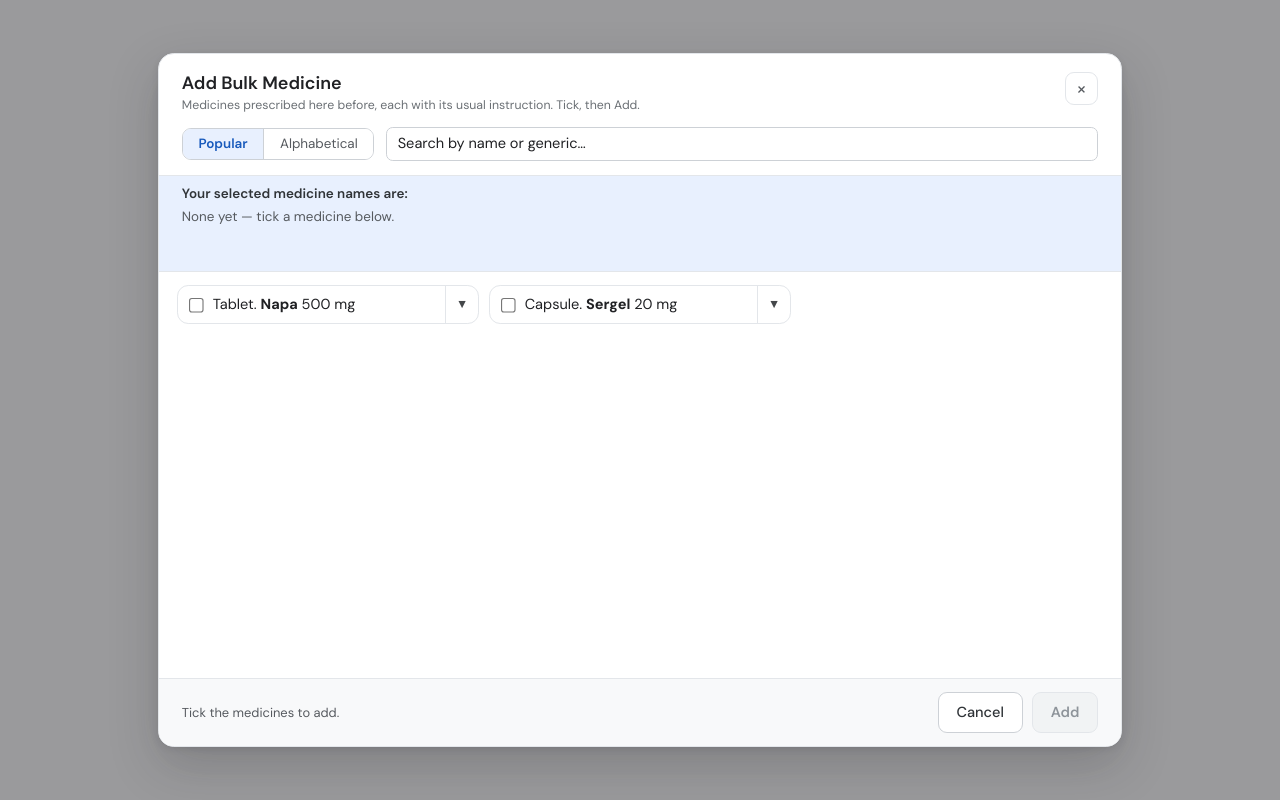
Test: BulkMedicineModal › Add cannot be pressed with nothing ticked, and says how many are
Expected: the button "Add" is disabled, [1032,692,1098,733]
Expected: the button "Add" is shown, [1032,692,1098,733]
Click the checkbox labelled "Tablet. Napa 500 mg".
click(197, 306)  # box [190,299,204,313]
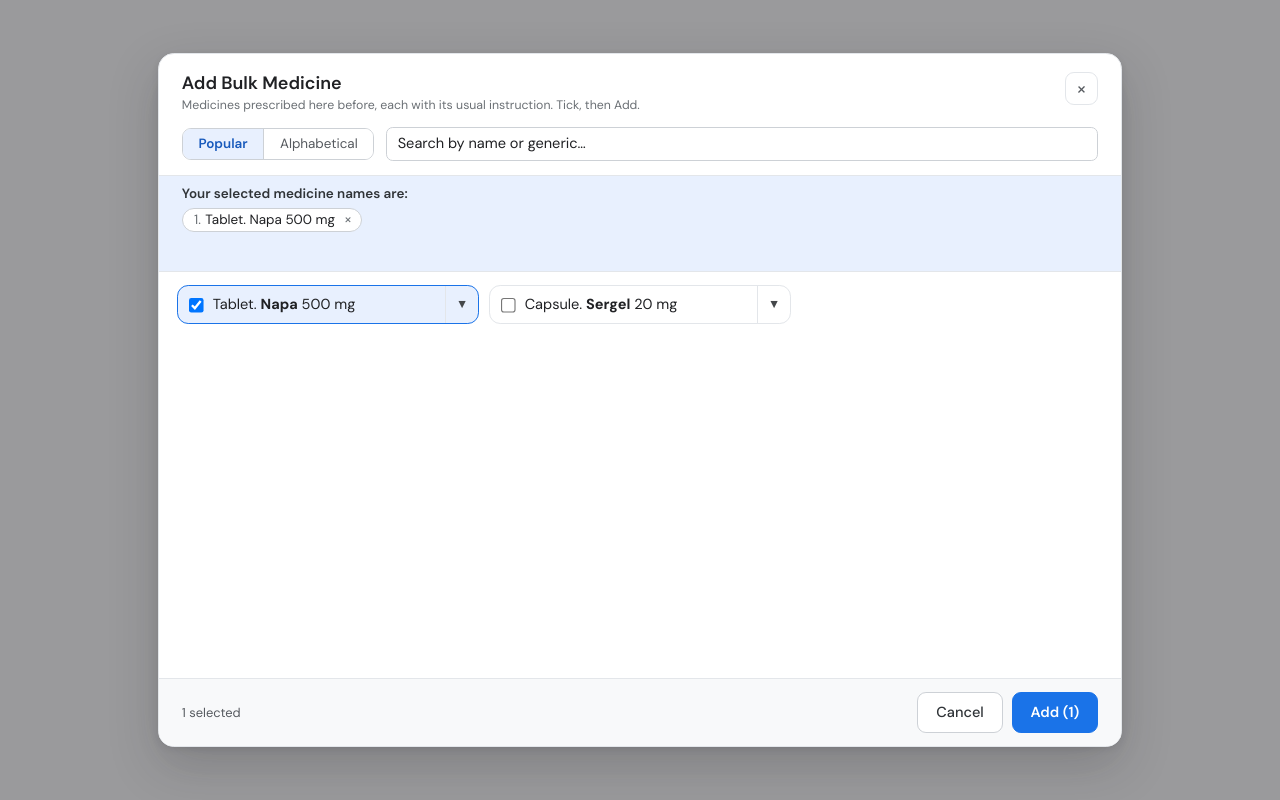
Now the button "Add (1)" is enabled, box [1012,692,1098,733]
Now the button "Add (1)" is shown, box [1012,692,1098,733]
Now the dialog "Add Bulk Medicine" shows "1 selected", box [182,704,241,721]
Click the checkbox labelled "Capsule. Sergel 20 mg".
click(508, 306)  # box [501,299,515,313]
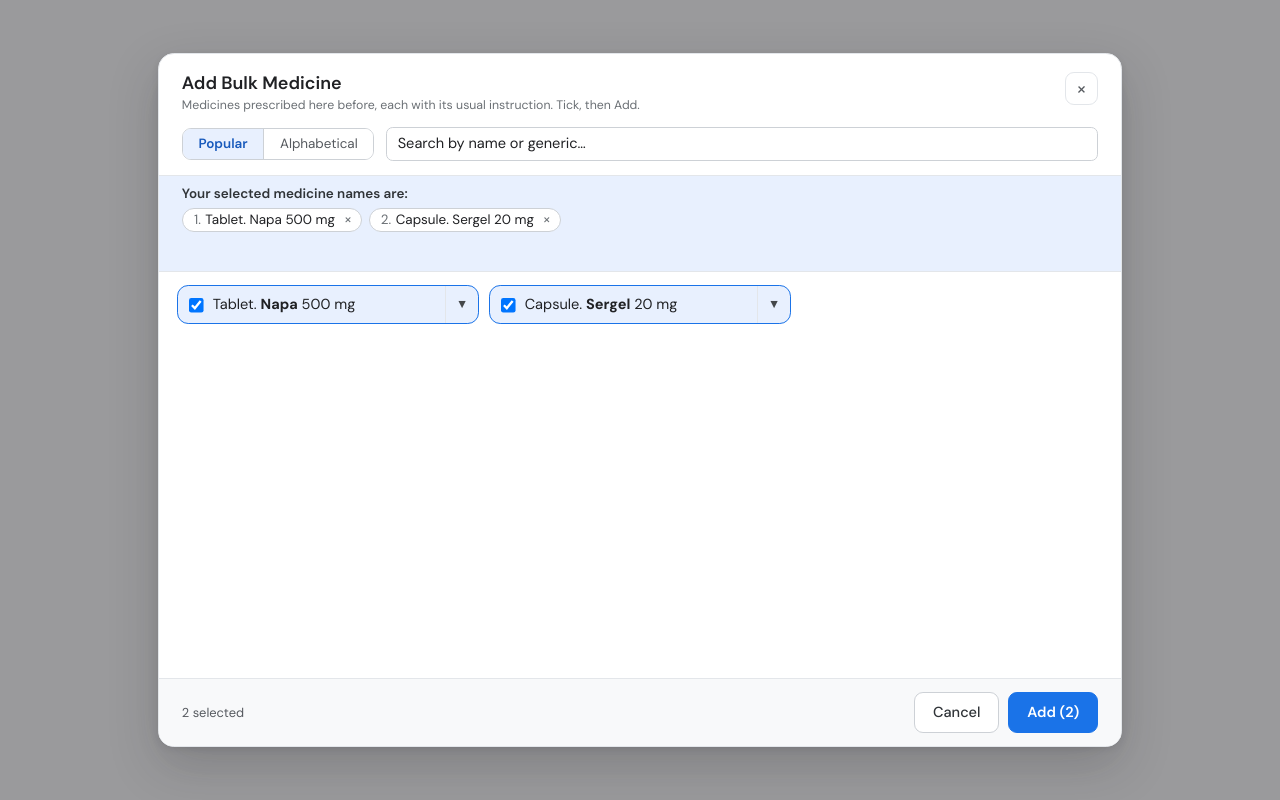
Now the button "Add (2)" is shown, box [1008,692,1098,733]
Click the checkbox labelled "Tablet. Napa 500 mg".
click(197, 306)  # box [190,299,204,313]
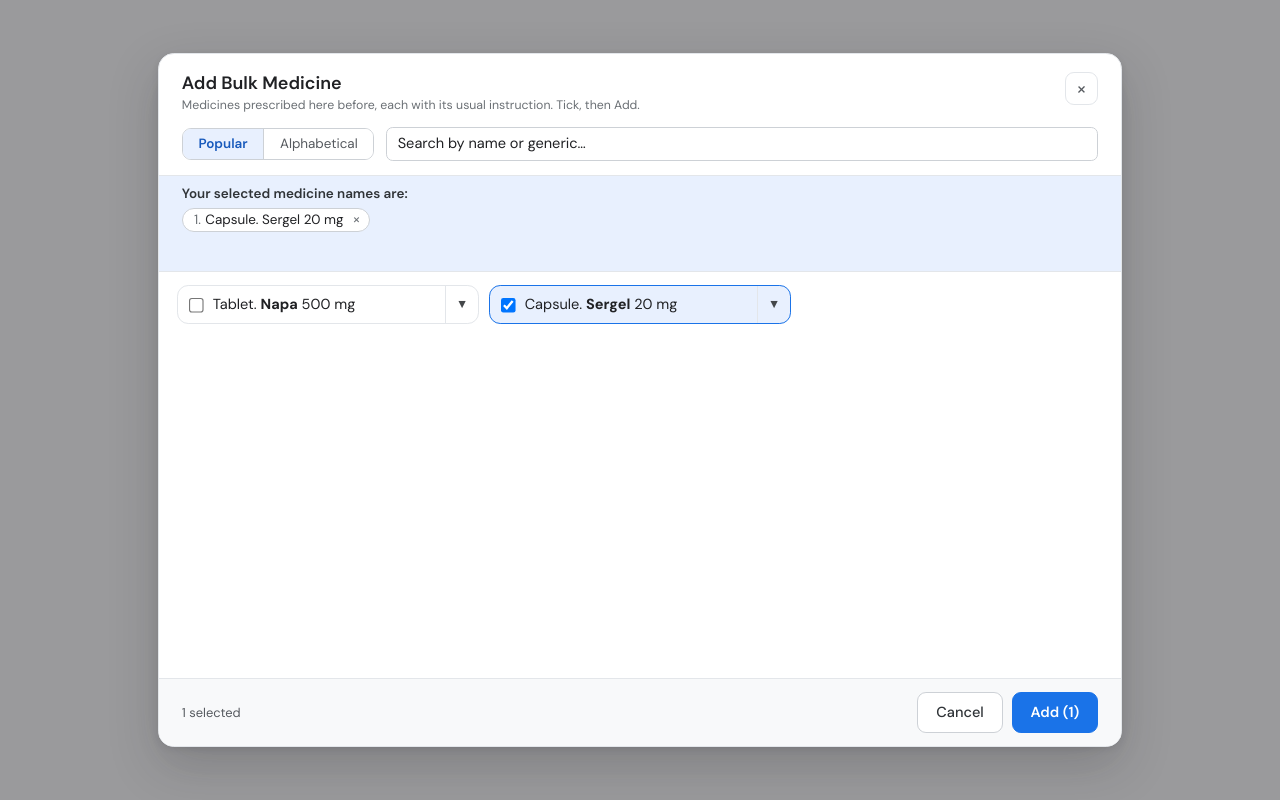
Click the checkbox labelled "Capsule. Sergel 20 mg".
click(508, 306)  # box [501,299,515,313]
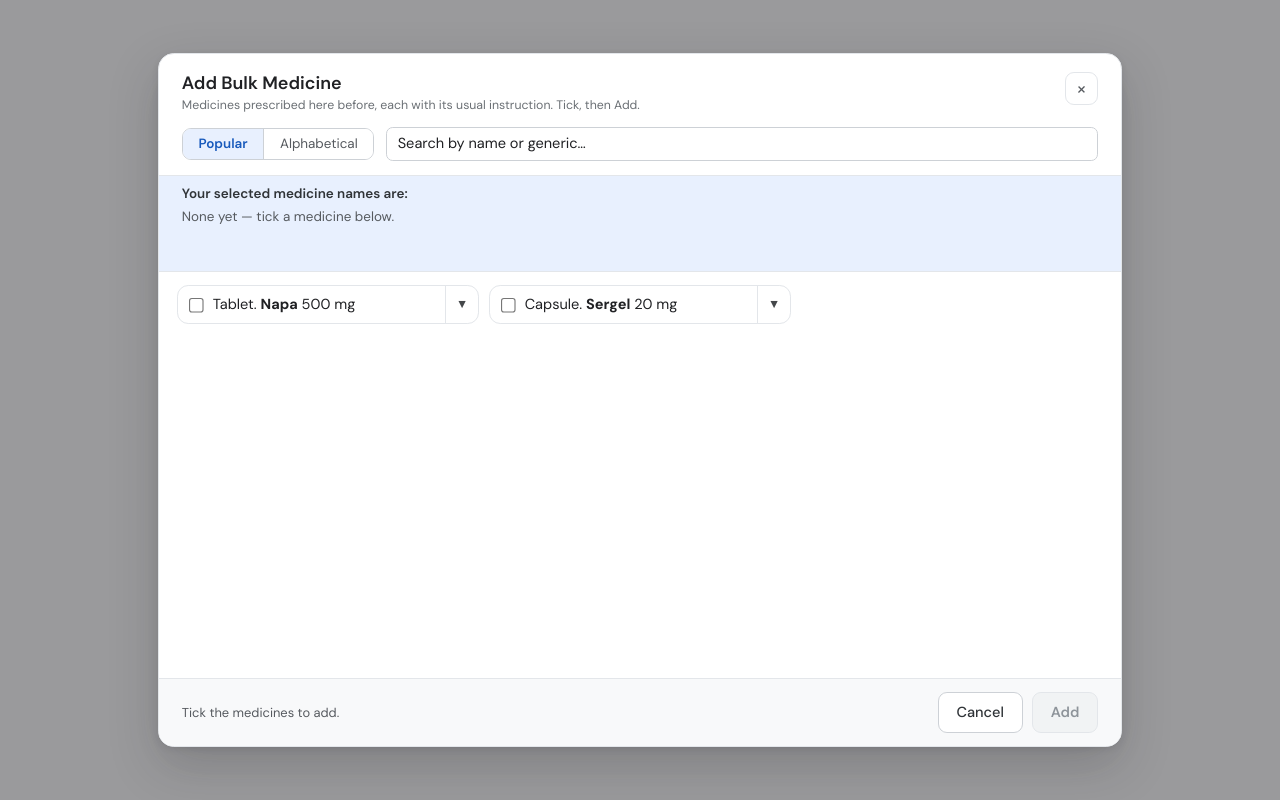
Now the button "Add" is disabled, box [1032,692,1098,733]
